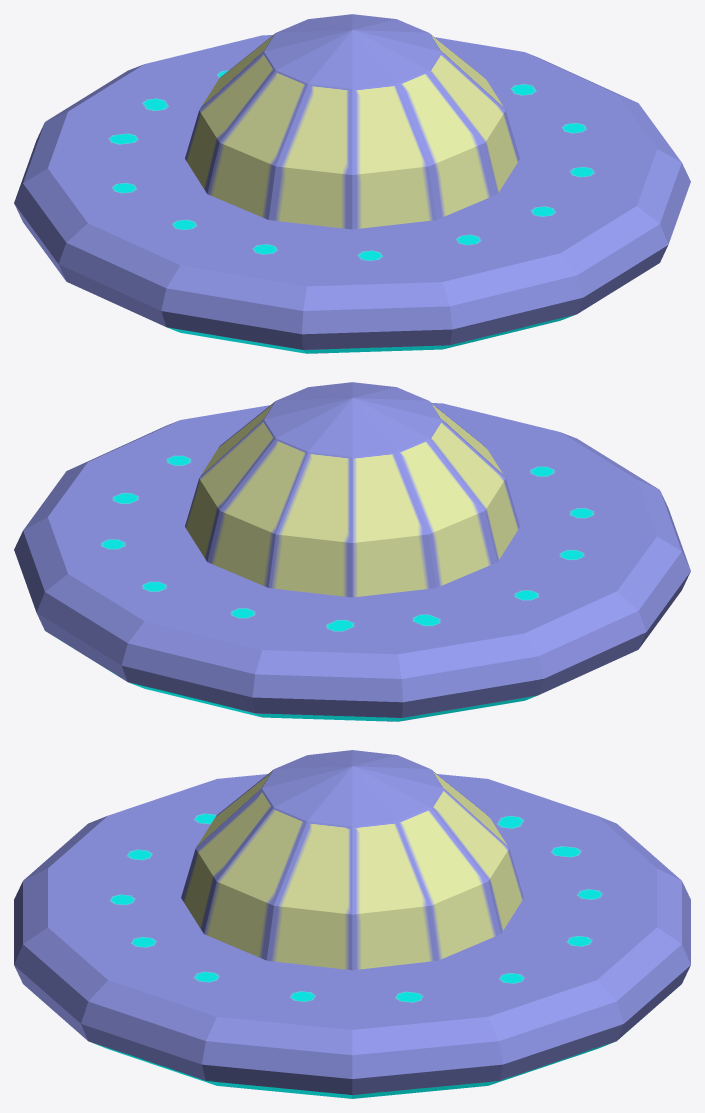
Rendered from enemigo.fbx.
The picture shows the model from 3 angles, top to bottom: view 1: azimuth 30°, elevation 25°; view 2: azimuth 150°, elevation 25°; view 3: azimuth 270°, elevation 25°; orthographic projection. The views are drawn at different scales.
Visible parts, largest first — view 1: ovini; view 2: ovini; view 3: ovini.
Part boxes in pixels (x1,y1,x2,y2): ovini: (14, 14, 690, 353); ovini: (14, 382, 690, 721); ovini: (14, 750, 690, 1098).
Size of the model in its own units: 2215 by 774 by 2160.
Materials: 1 (1 with a texture image).
